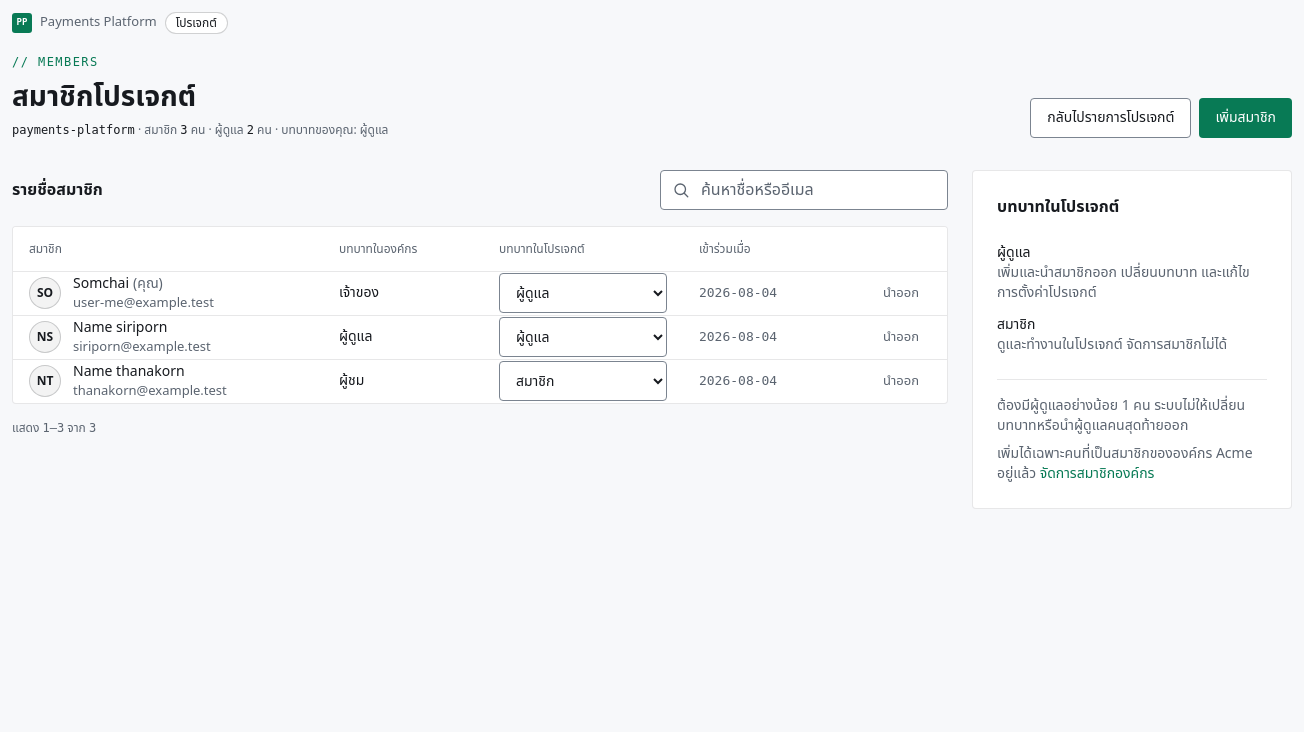
Scenario: states › returns to the list when a demotion makes a later request answer 404 (AC-05)
Check: the element with test id "project-members-table" is shown, box x1=12 y1=226 x2=948 y2=404
Select "ผู้ดูแล" in the dropdown with test id "project-member-role-select" at (583, 381), box x1=499 y1=361 x2=667 y2=401
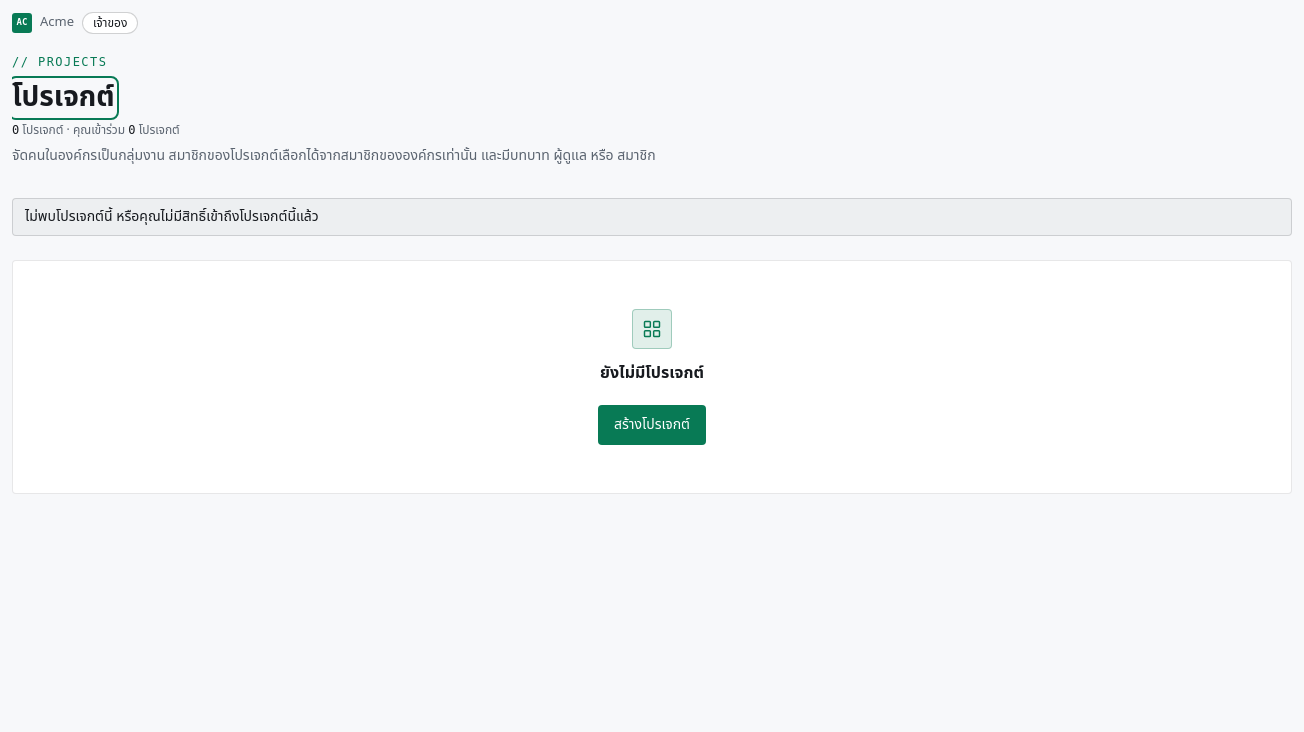
Check: the message "ไม่พบโปรเจกต์นี้ หรือคุณไม่มีสิทธิ์เข้าถึงโปรเจกต์นี้แล้ว" is shown, box x1=12 y1=198 x2=1292 y2=236
